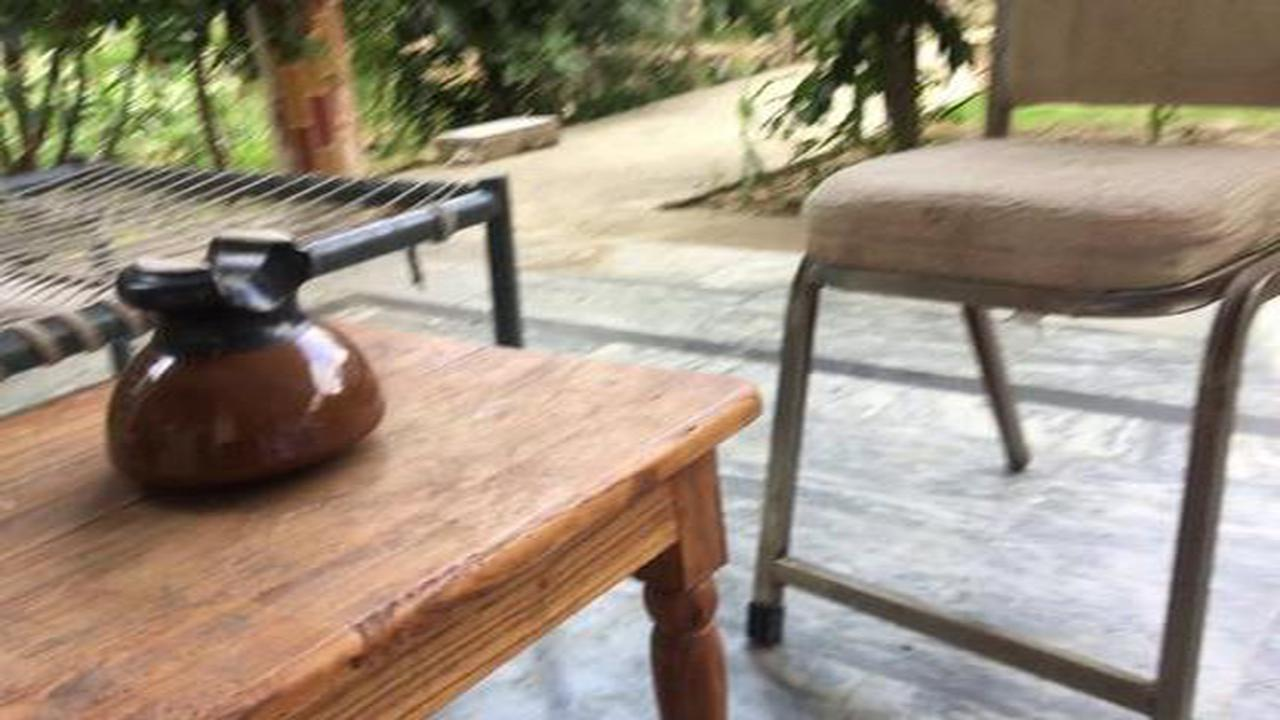insulator_pin: (84, 222, 404, 518)
